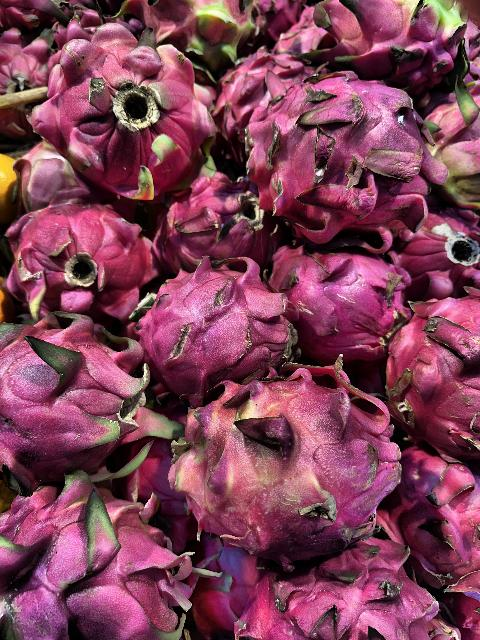buah-naga-belum-matang: (167, 378, 409, 554)
buah-naga-matang: (254, 69, 450, 231), (2, 480, 198, 640), (0, 315, 158, 491), (36, 20, 200, 186), (244, 534, 444, 640), (140, 260, 300, 386), (1, 202, 155, 318), (380, 284, 480, 458), (270, 224, 396, 356)
